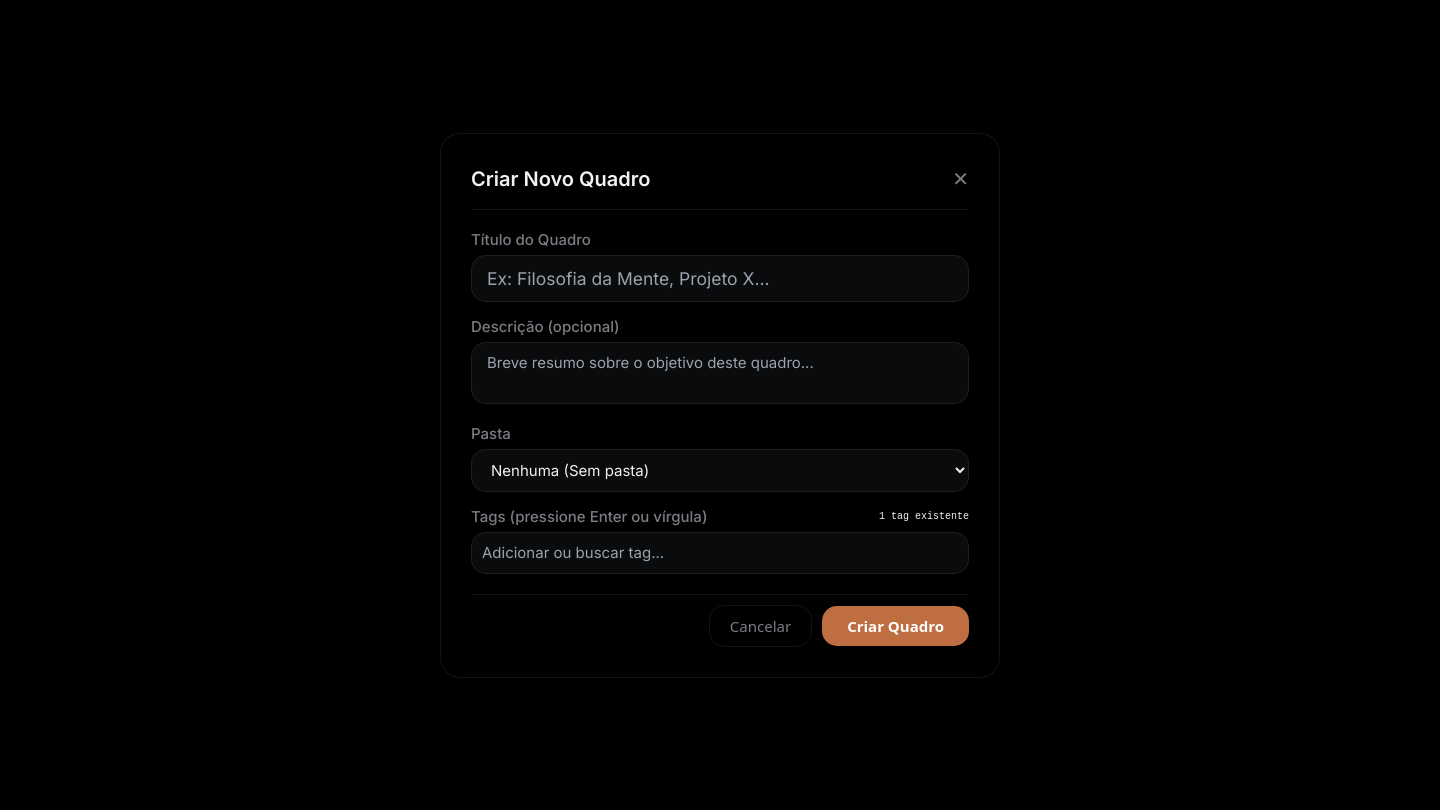
Test: CanvasActionModals - Busca e Seleção de Tags › permite criar nova tag customizada quando não existe nas sugestões
In the field with placeholder "Adicionar ou buscar tag...": (720, 552) [482, 542, 958, 562], type "minha-nova-tag"
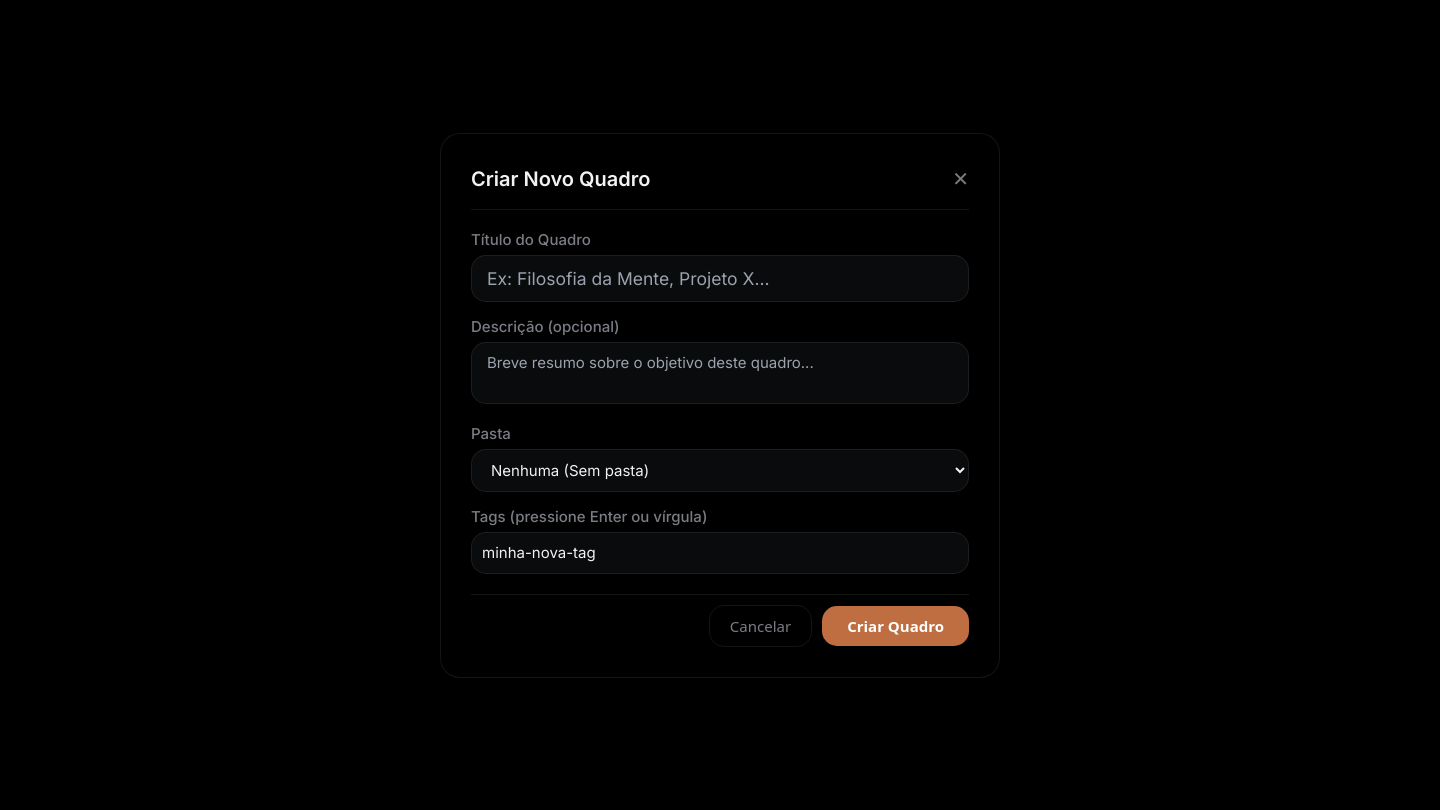
Press Enter in the field with placeholder "Adicionar ou buscar tag...", box [482, 542, 958, 562]
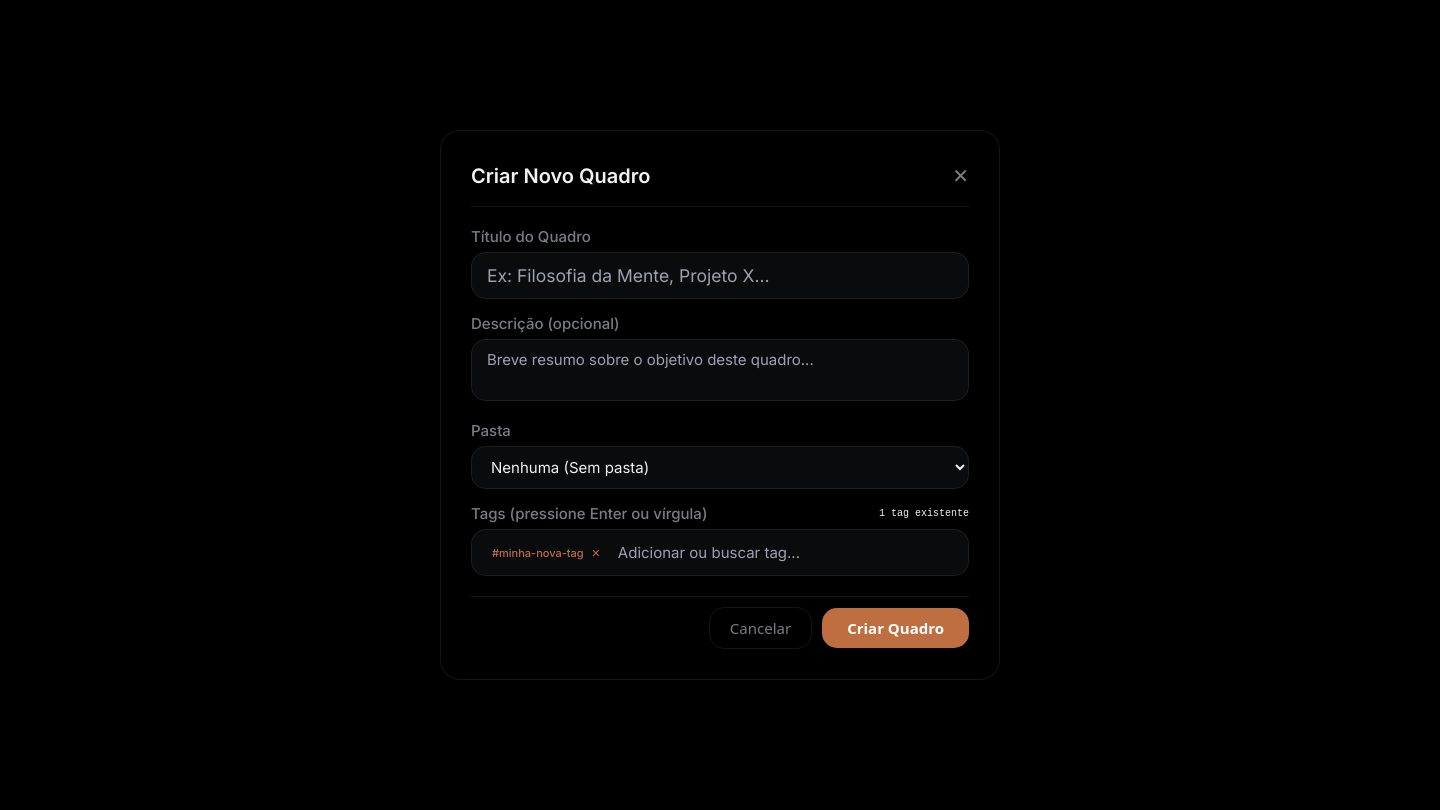
Result: the element showing "#minha-nova-tag ✕" is shown at [492, 542, 600, 562]
